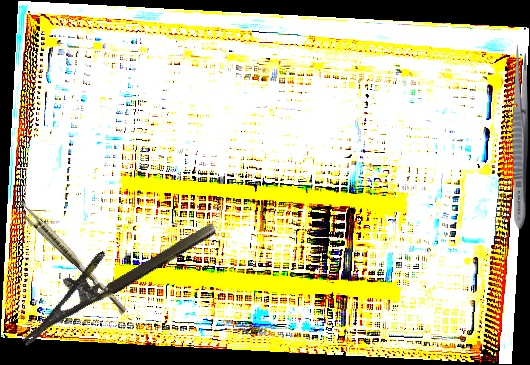Dressing Forceps: (511, 45, 529, 229)
Needle Holder: (3, 196, 219, 347)
Tissue Forceps: (11, 198, 132, 316)
